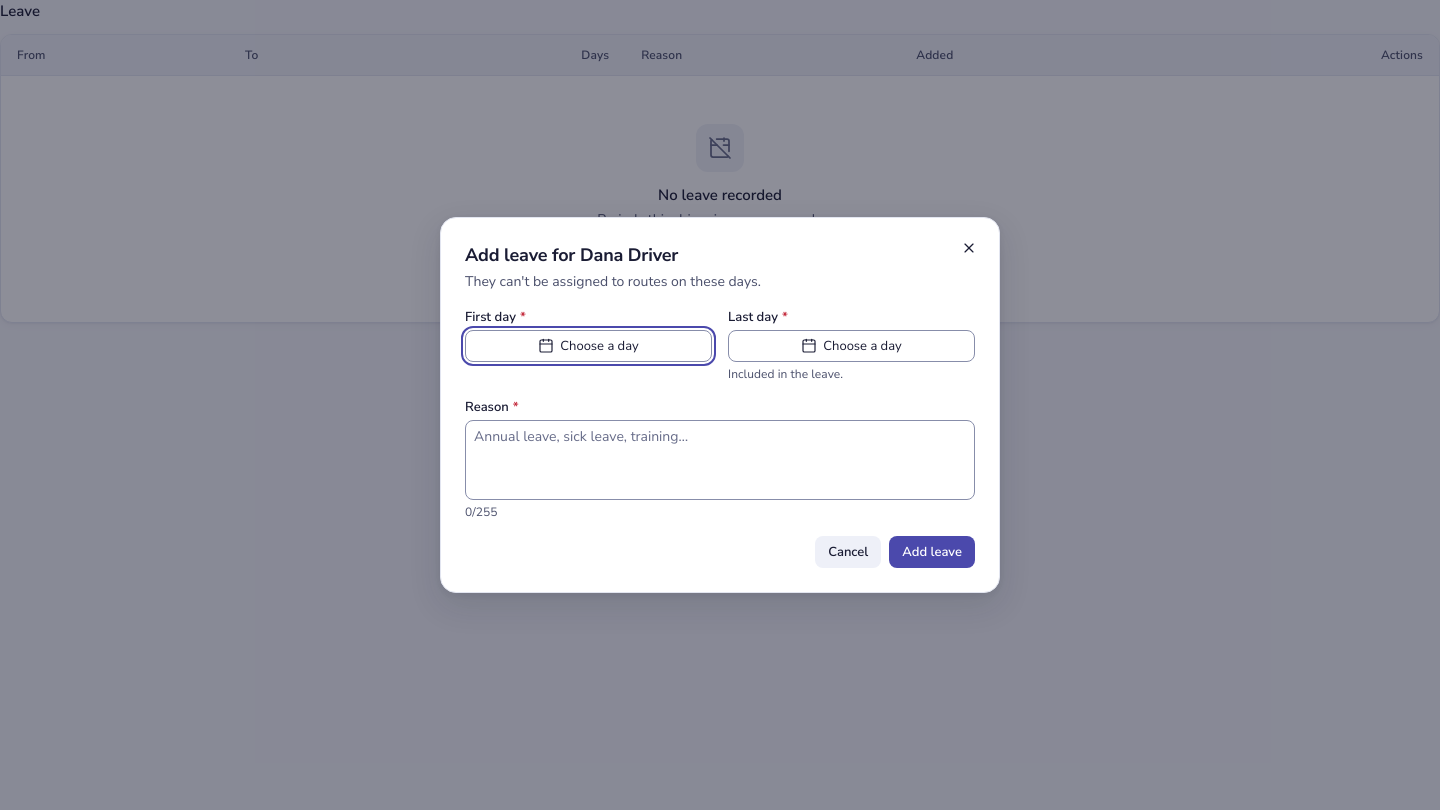
Test: DriverLeave management › adding leave › closes with an error toast when the driver was archived meanwhile (409)
The image size is (1440, 810).
Earlier steps of the test are not shown.
Expected: the dialog is shown, [440, 217, 1000, 593]
Click the button with aria-label "First day (required):": (588, 346) [465, 330, 712, 362]
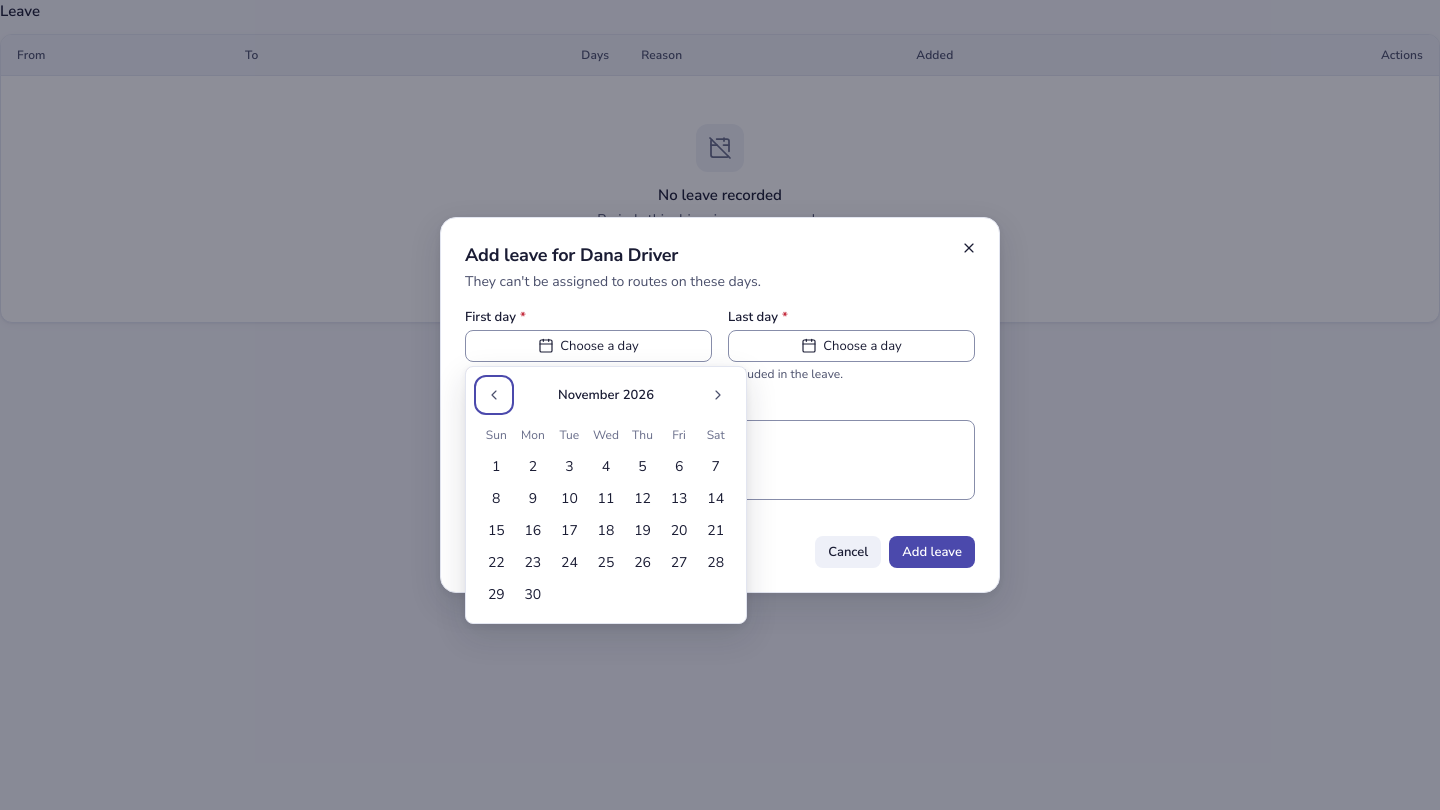
Click the button "10": (569, 499) [553, 483, 585, 515]
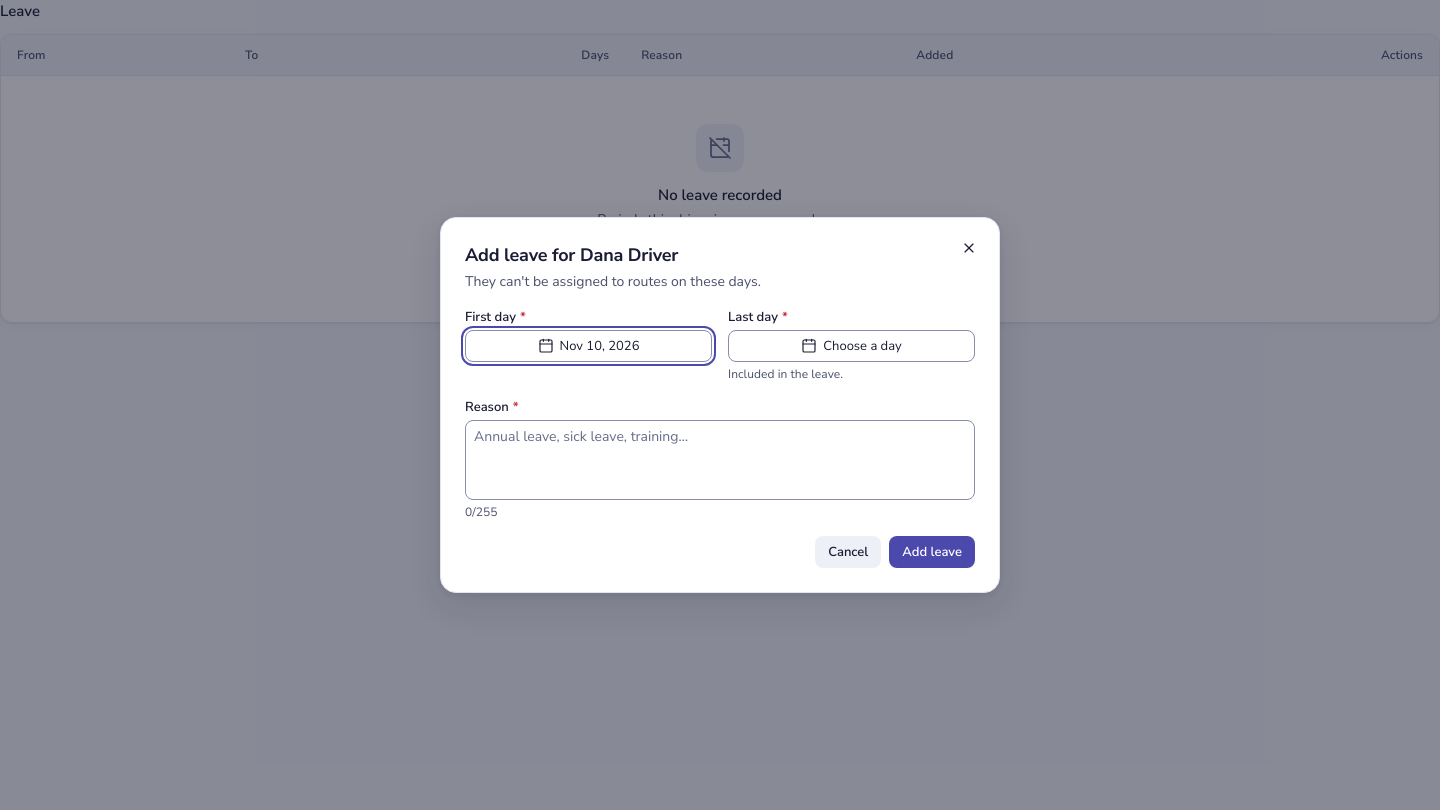
Click the button with aria-label "Last day (required):": (852, 346) [728, 330, 975, 362]
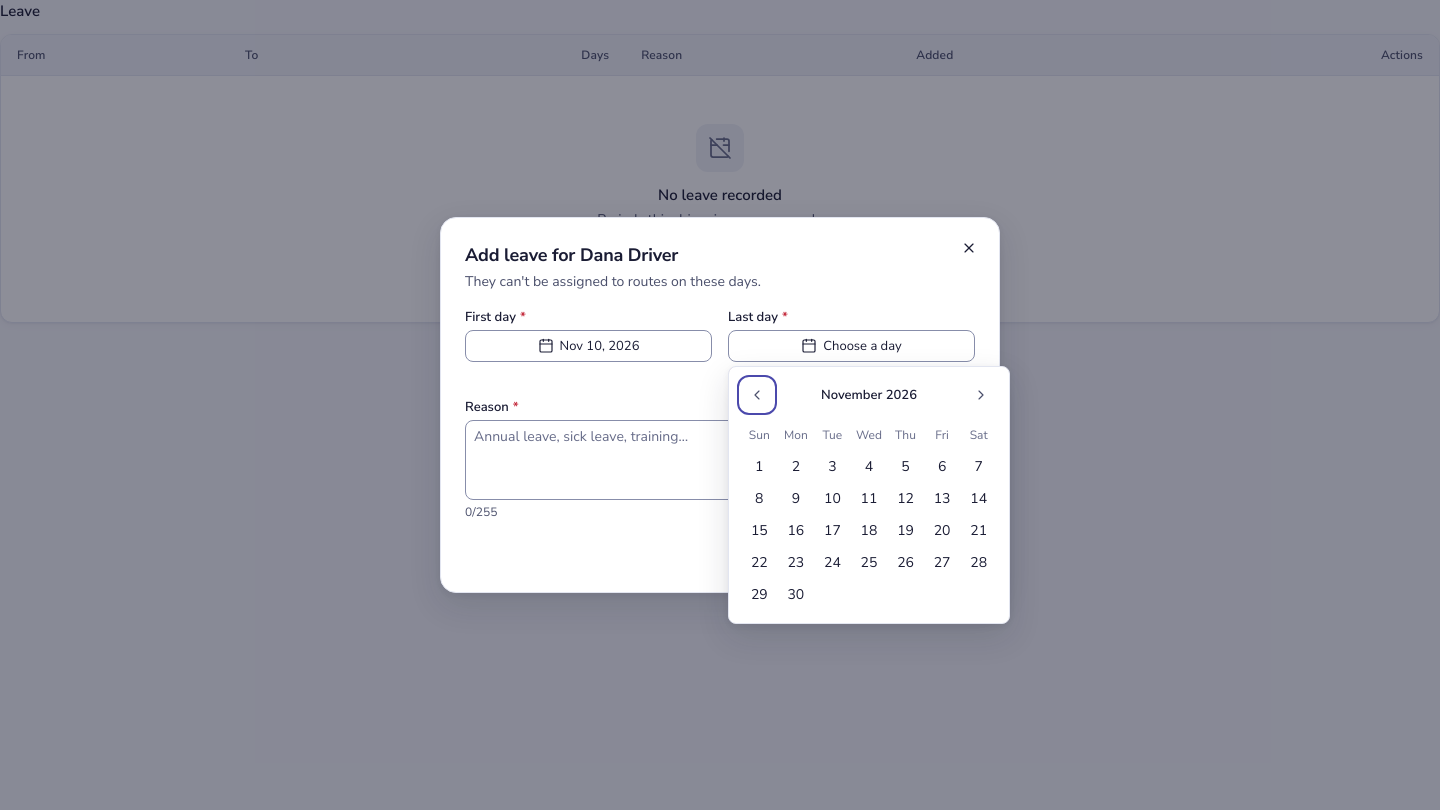
Click the button "14": (979, 499) [963, 483, 995, 515]
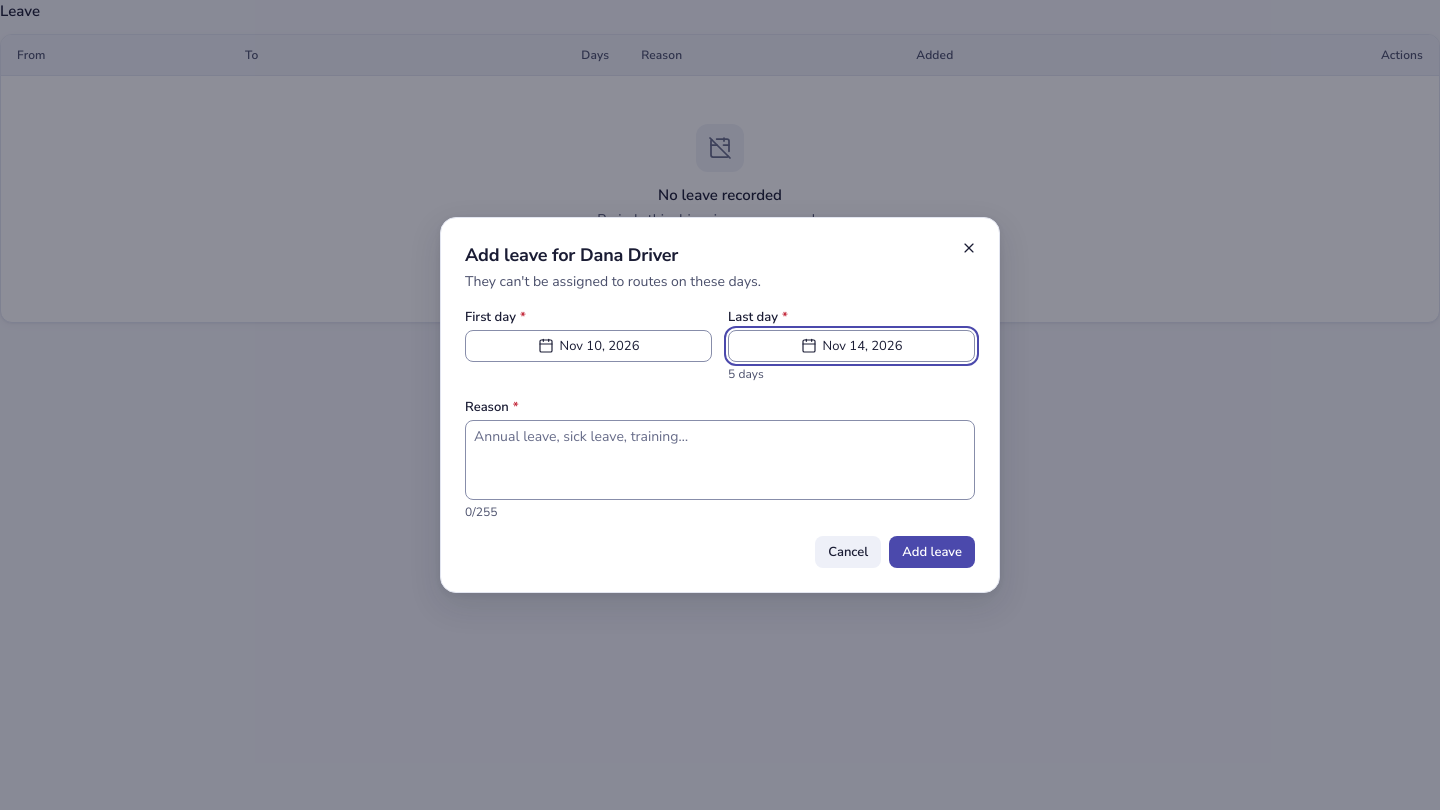
In the text box labelled "Reason*": (720, 460) [465, 420, 975, 500], type "Training"
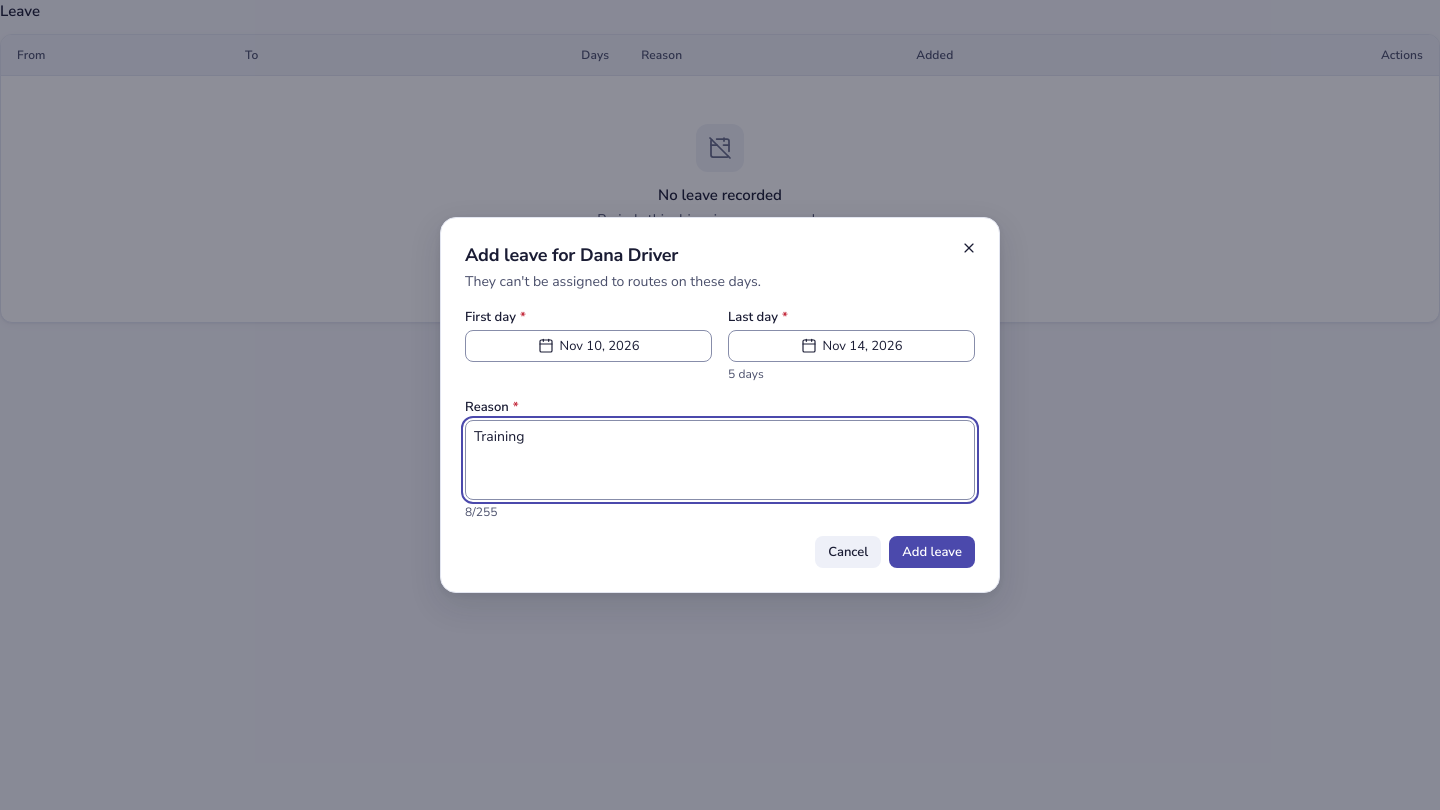
Click the button "Add leave": (932, 552) [889, 536, 975, 568]
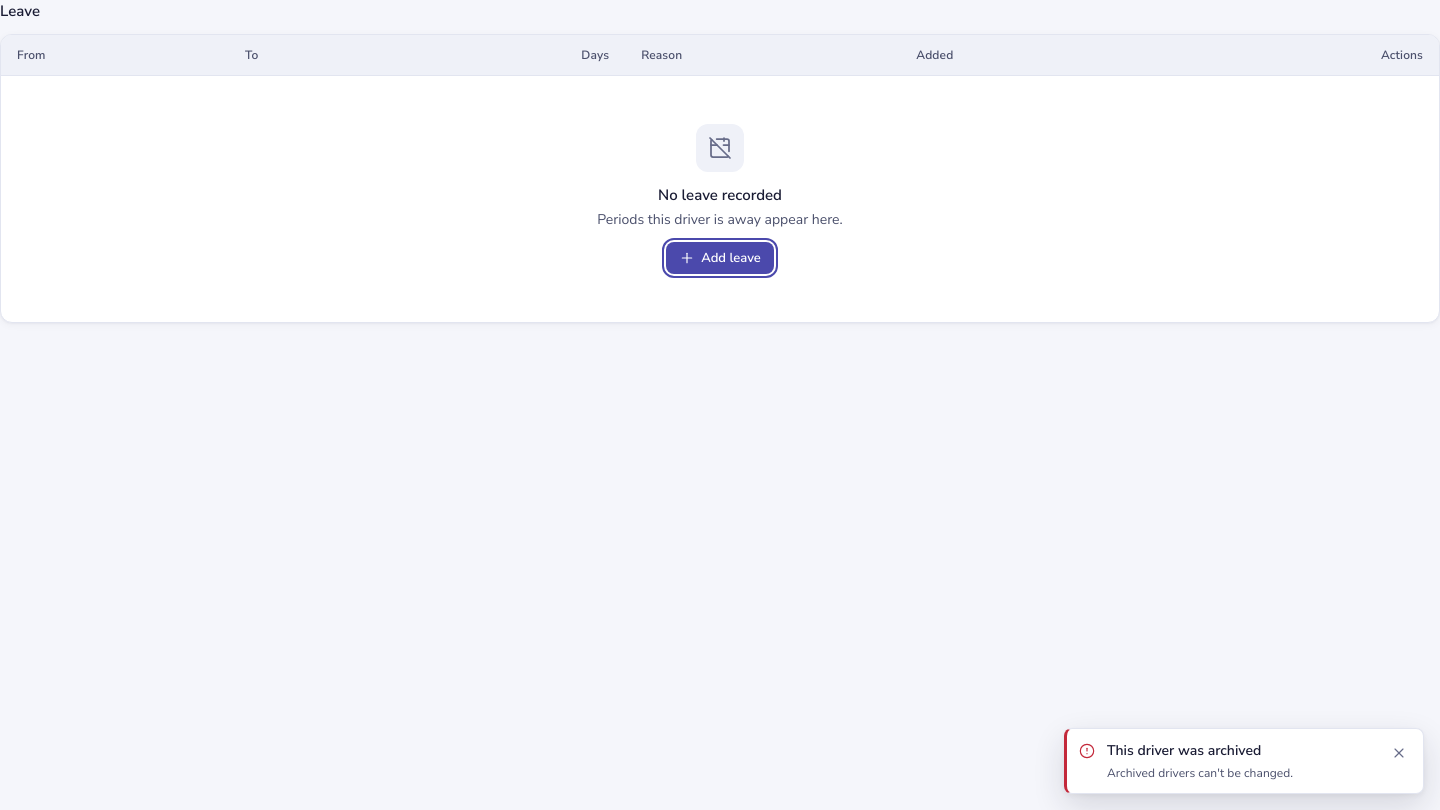
Expected: the text "This driver was archived" is shown, [1107, 741, 1261, 760]
Expected: the dialog is gone
